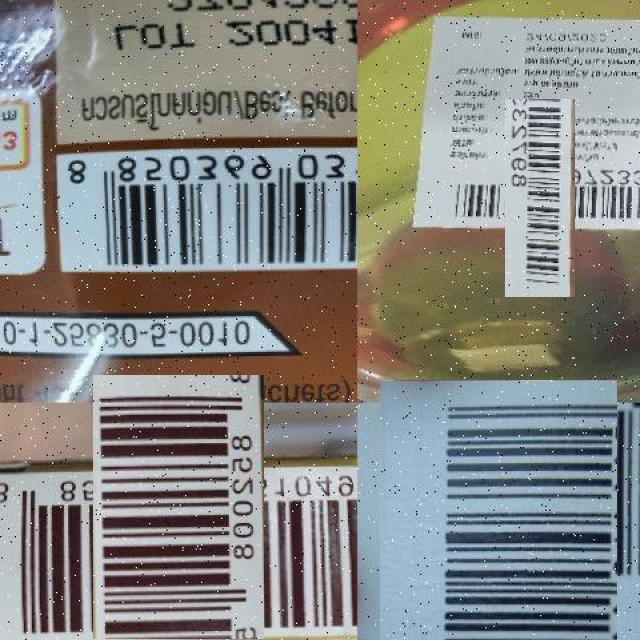Barcode: (368, 391, 628, 640), (46, 421, 310, 640), (56, 145, 357, 271), (473, 131, 608, 265)
